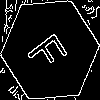F: (25, 25, 76, 77)
